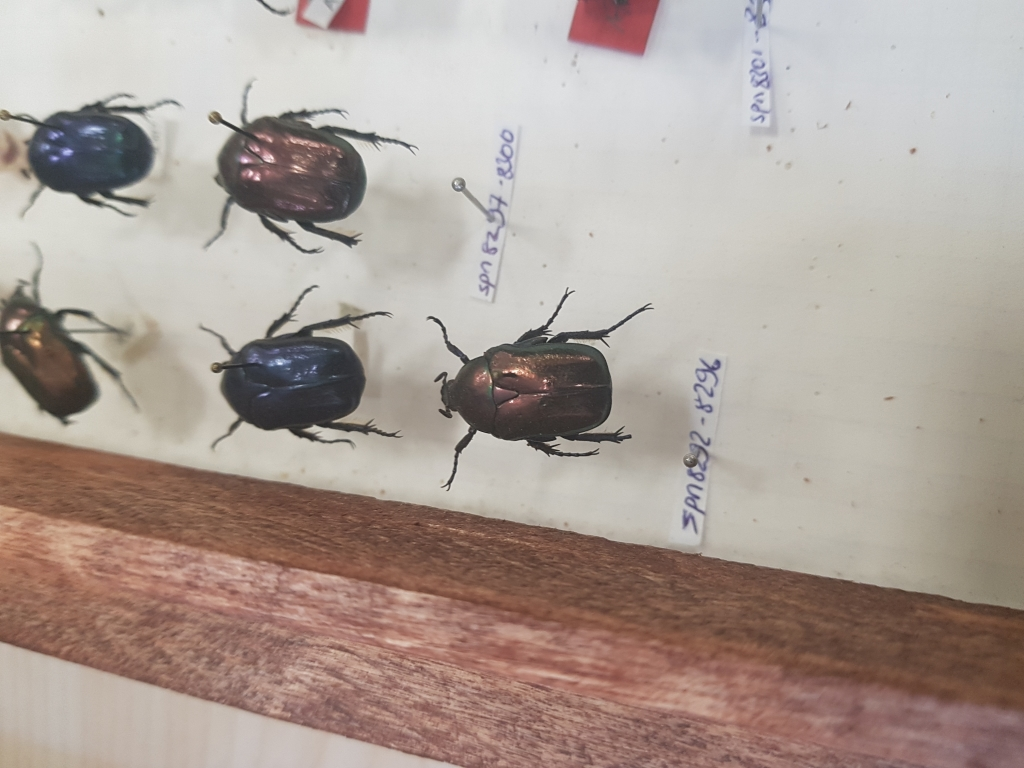Protaetia_besucheti: (406, 284, 659, 499), (176, 279, 412, 471), (195, 74, 425, 264)
